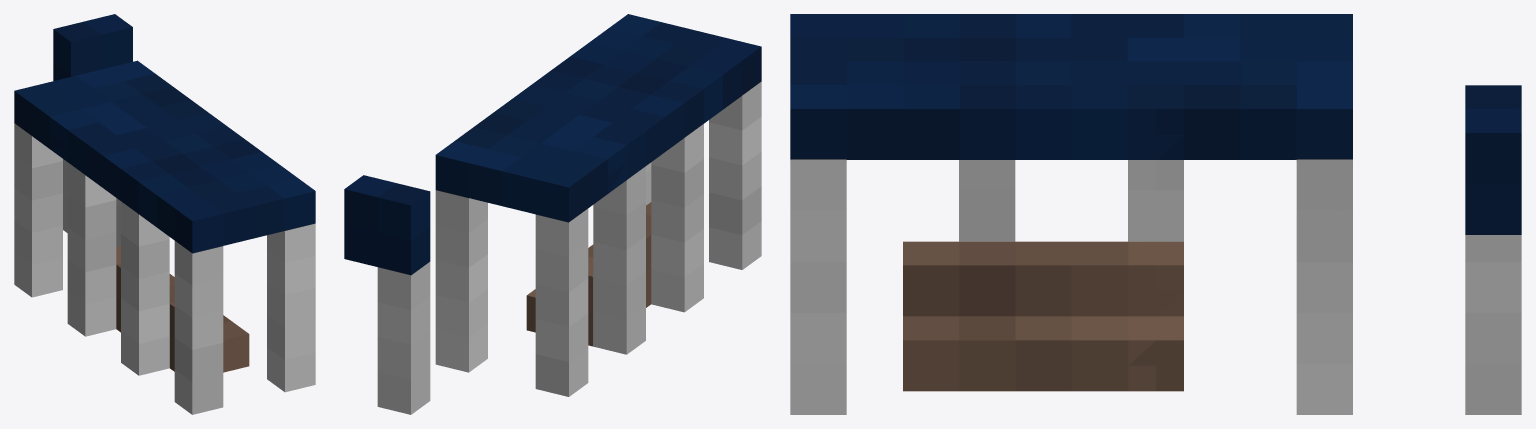
The model's file is bus_stop.fbx.
3 views of the same model, side by side, from view 1: azimuth 30°, elevation 25°; view 2: azimuth 150°, elevation 25°; view 3: azimuth 270°, elevation 25° (orthographic). The views are drawn at different scales.
Parts seen in each view (by area): view 1: Cube; view 2: Cube; view 3: Cube.
Boxes of the visible parts, x1,y1,x2,y2 form: Cube: (14, 14, 315, 414); Cube: (344, 14, 761, 414); Cube: (790, 14, 1521, 414).
Bounding box in the file's own units: 31.25 × 37.5 × 81.25.
1 material, 1 textured.
